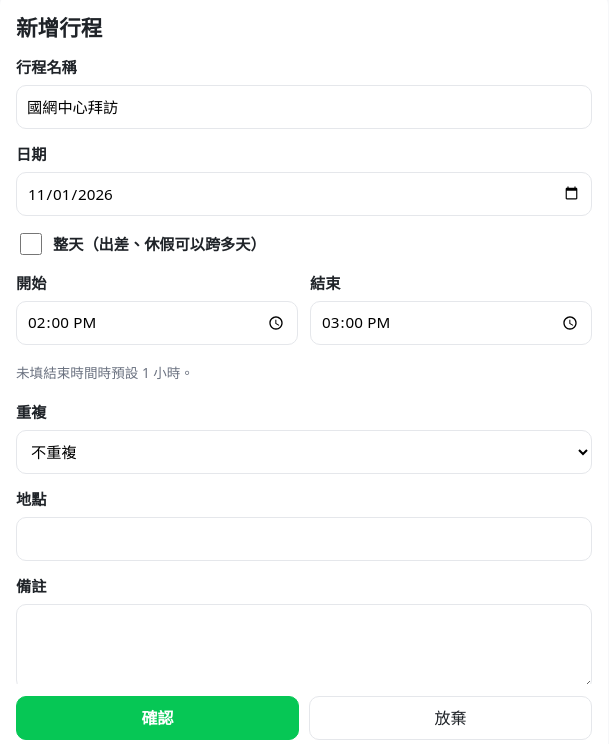
Test: draft page › stale version reloads and explains
Click the button "確認": (158, 718) [16,696,299,740]
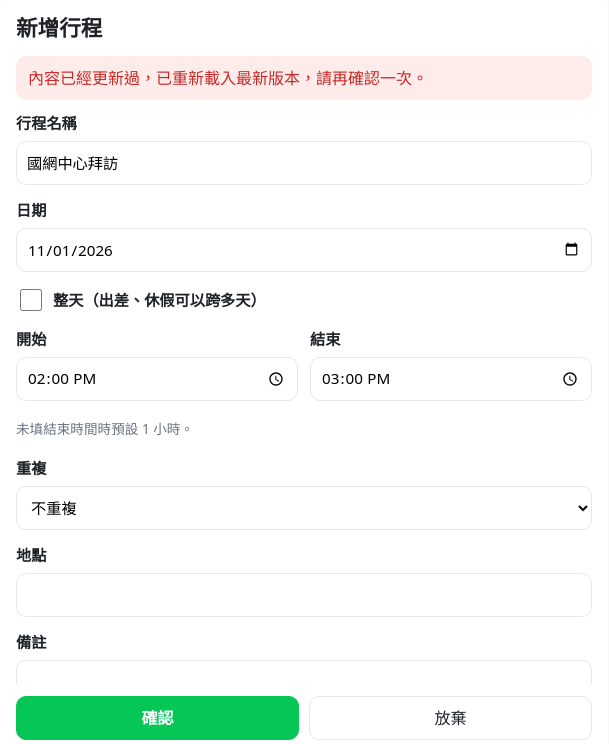
Result: the message shows "重新載入最新版本" at [28,67,428,89]
